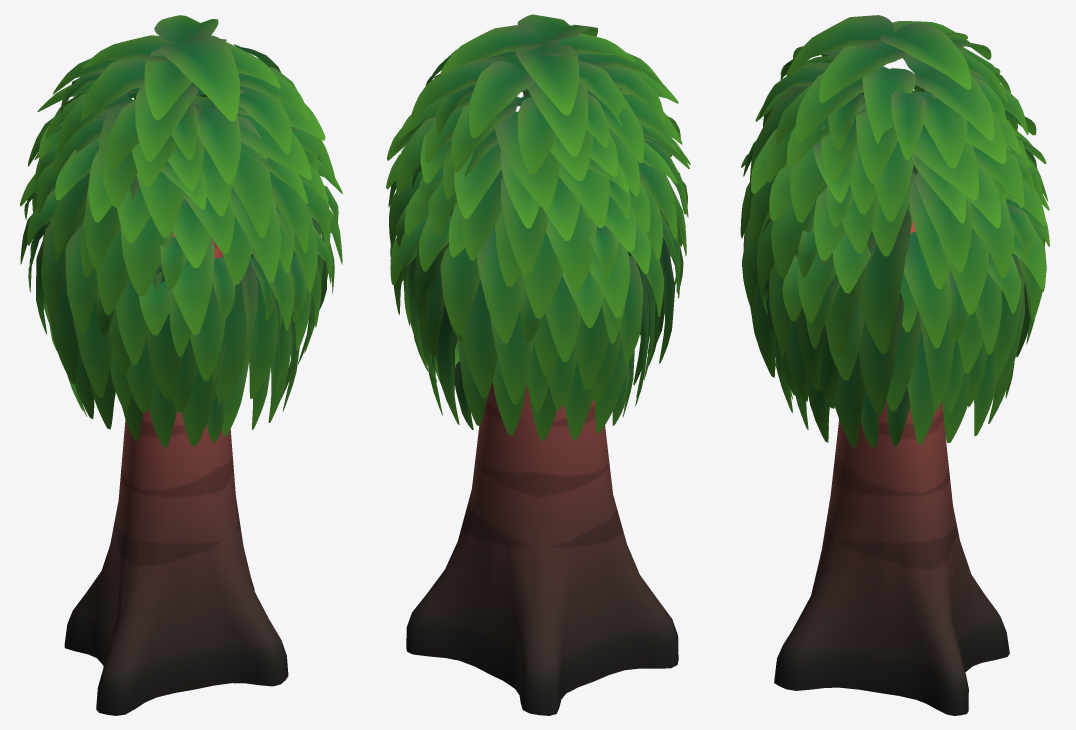
File: Tree_2b.fbx
3 renders of one model, left to right at view 1: azimuth 30°, elevation 25°; view 2: azimuth 150°, elevation 25°; view 3: azimuth 270°, elevation 25°, orthographic. The views are drawn at different scales.
Parts seen in each view (by area): view 1: Tree_2b; view 2: Tree_2b; view 3: Tree_2b.
Boxes of the visible parts, x1,y1,x2,y2 form: Tree_2b: [20, 15, 342, 715]; Tree_2b: [386, 14, 690, 715]; Tree_2b: [740, 15, 1049, 715].
Bounding box in the file's own units: 38.96 × 82.98 × 38.59.
